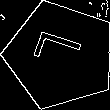L_E: (30, 32, 91, 78)
